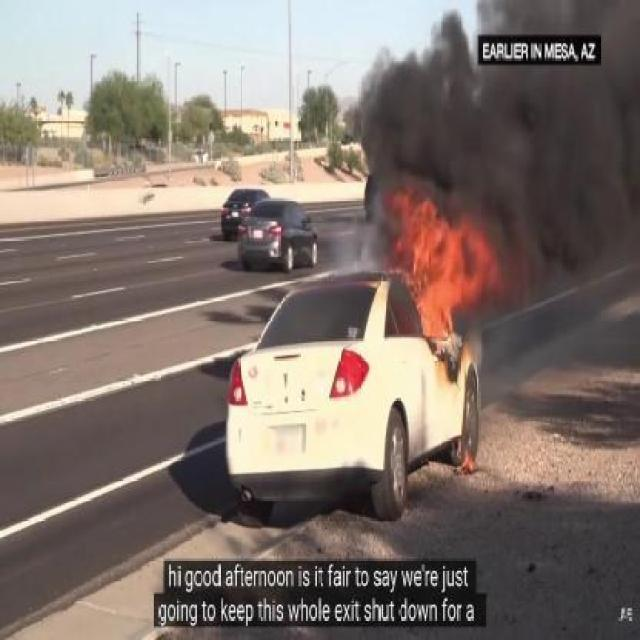Fire: (394, 190, 482, 377), (444, 442, 479, 480)
Smoke: (347, 9, 640, 212), (486, 200, 640, 308)
